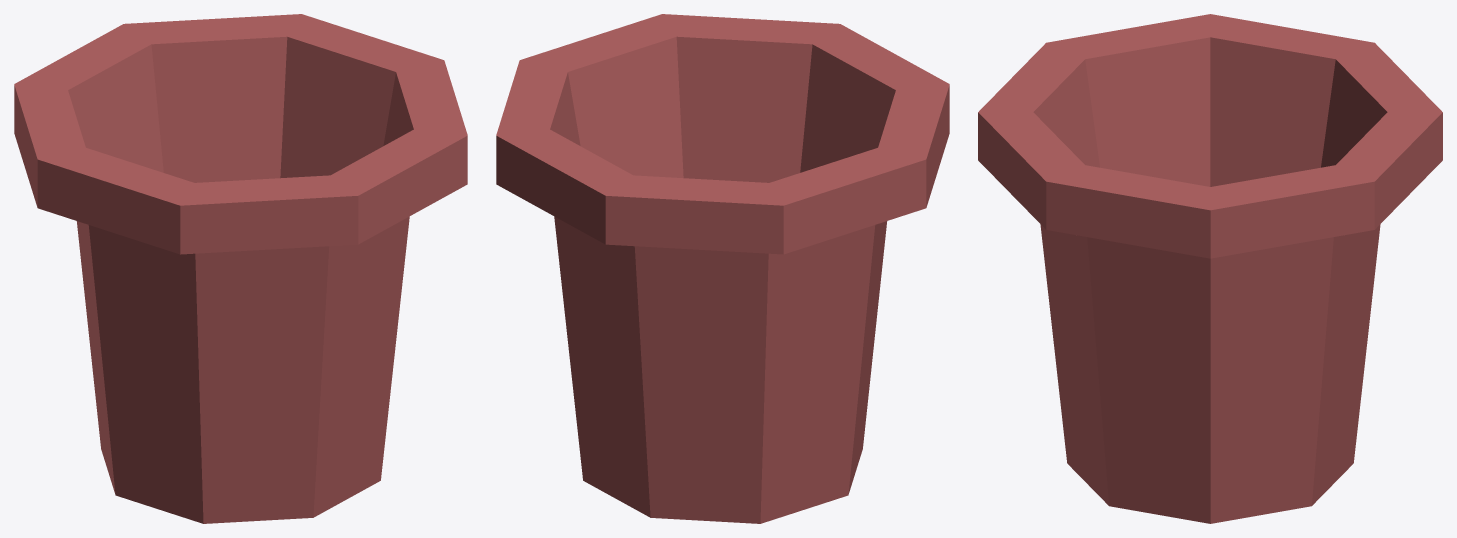
File: Pot_5.fbx
3 views of the same model, side by side, from view 1: azimuth 30°, elevation 25°; view 2: azimuth 150°, elevation 25°; view 3: azimuth 270°, elevation 25° (orthographic).
Visible parts, largest first — view 1: Pot_5; view 2: Pot_5; view 3: Pot_5.
Part boxes in pixels (x1,y1,x2,y2): Pot_5: (14, 14, 467, 523); Pot_5: (496, 14, 949, 523); Pot_5: (978, 14, 1442, 523).
Size of the model in its own units: 20.61 by 20.61 by 17.19.
